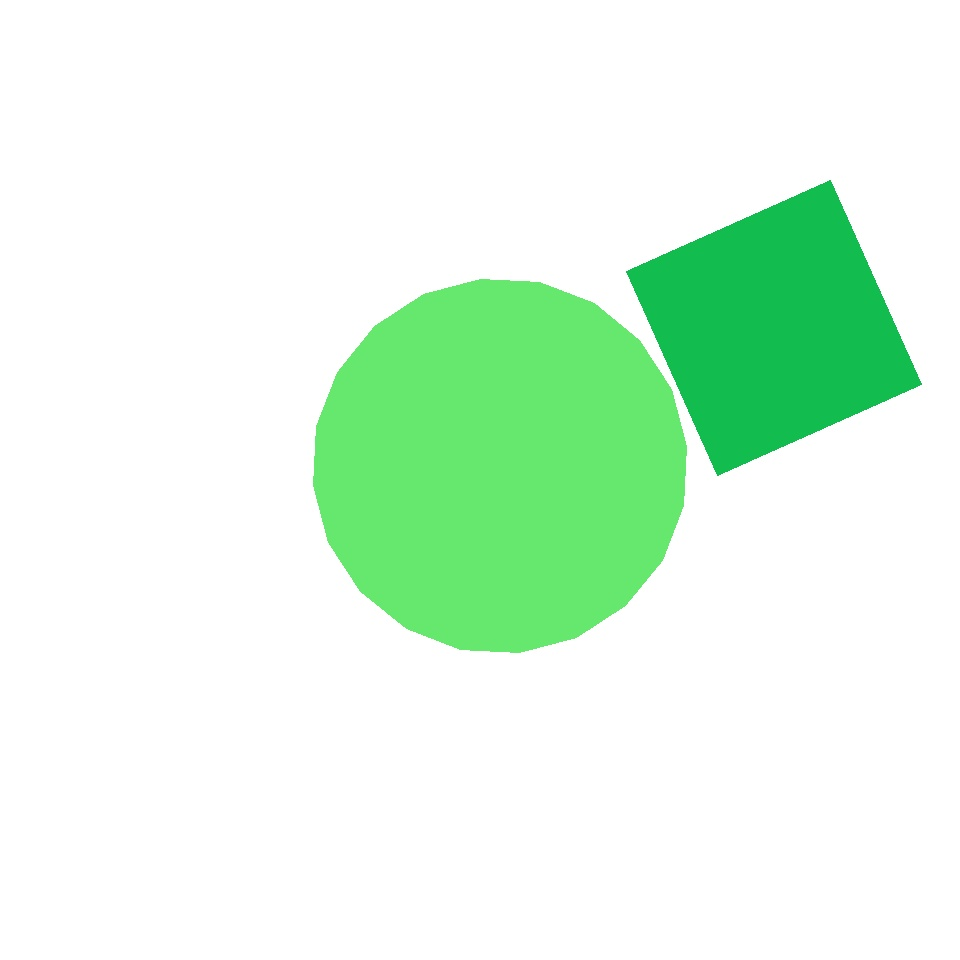circle: (282, 614, 552, 878), (589, 469, 781, 689)
square: (502, 472, 852, 822), (626, 180, 922, 476)
triangle: (314, 280, 686, 652), (660, 642, 894, 876)
